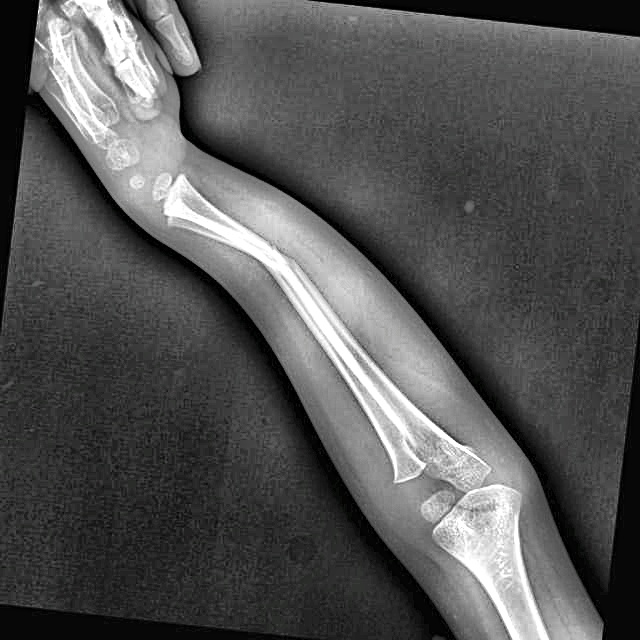Spiral: (262, 235, 310, 303)
